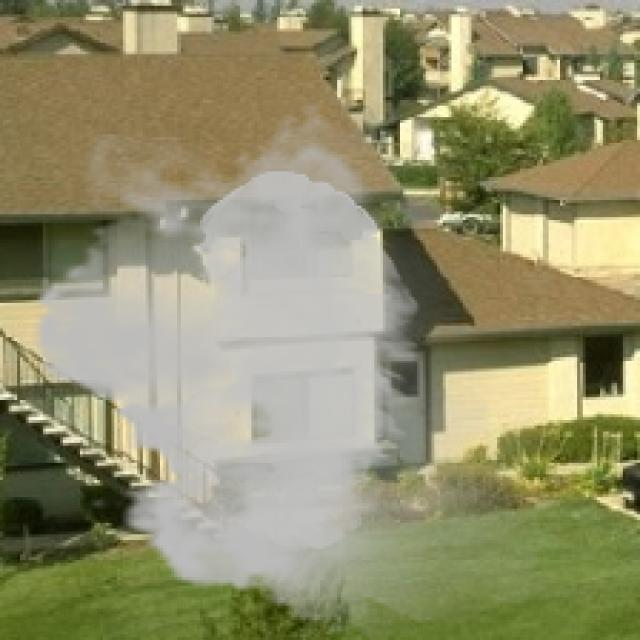Smoke: (11, 100, 580, 634)
